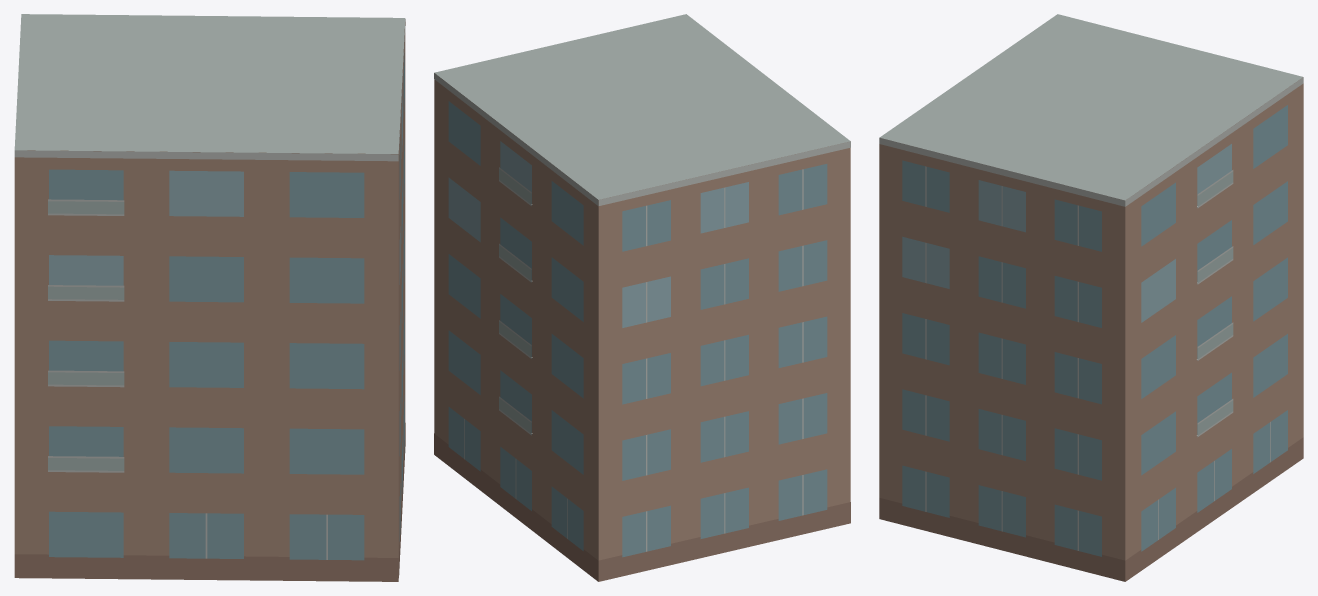
The model's file is survey-upis-32777504.glb.
3 renders of one model, left to right at view 1: azimuth 30°, elevation 25°; view 2: azimuth 150°, elevation 25°; view 3: azimuth 270°, elevation 25°, orthographic. The views are drawn at different scales.
Parts seen in each view (by area): view 1: survey-upis-32777504.tmp; view 2: survey-upis-32777504.tmp; view 3: survey-upis-32777504.tmp.
Boxes of the visible parts, x1,y1,x2,y2 form: survey-upis-32777504.tmp: [14, 14, 405, 581]; survey-upis-32777504.tmp: [434, 14, 850, 581]; survey-upis-32777504.tmp: [879, 14, 1303, 581].
Size of the model in its own units: 15.32 by 14.6 by 14.73.
